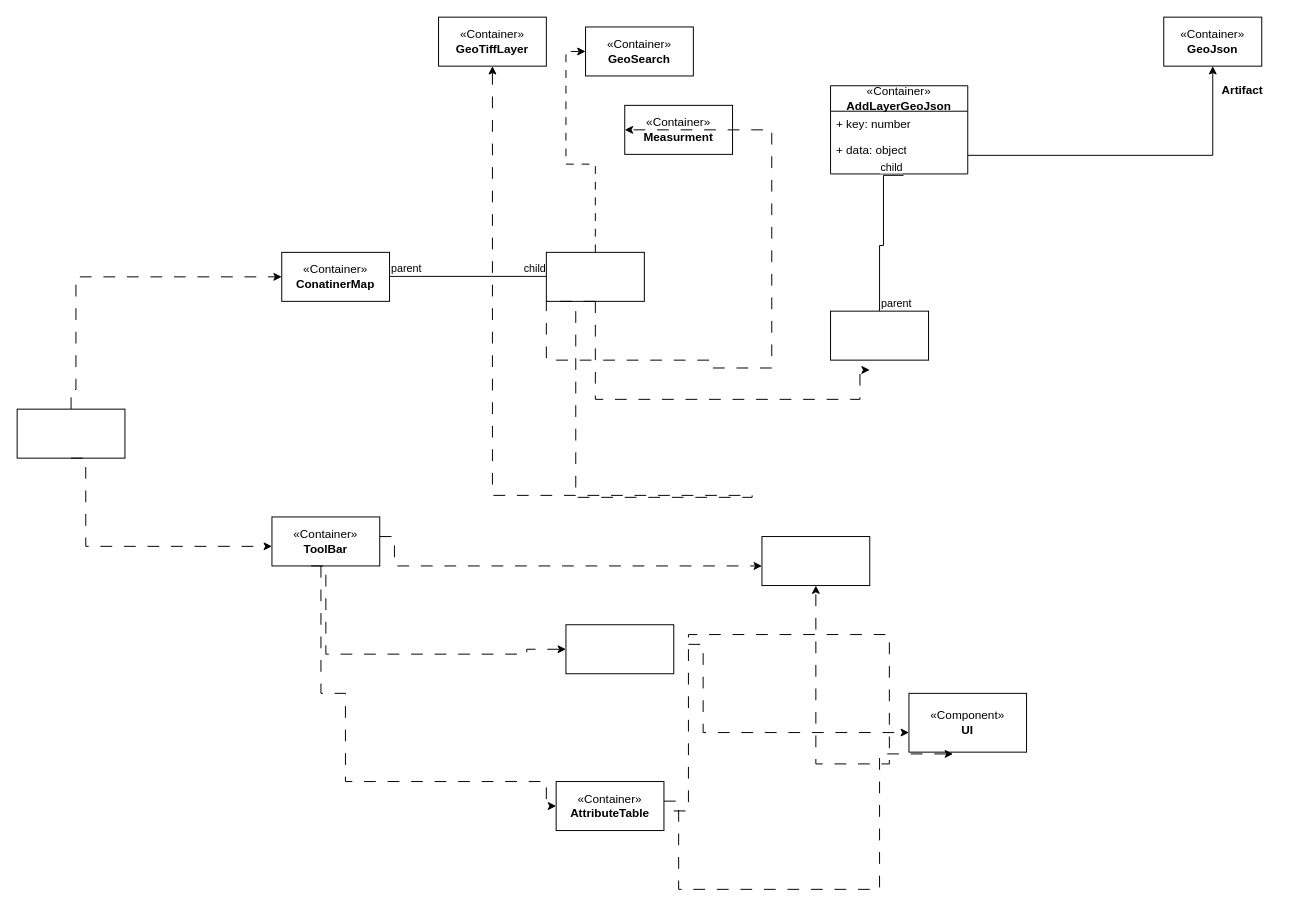
Some shapes in this 1294 by 914 pixel diagram are drawn without their labels. Here are the shapes that lost their labels. From the top down, the centre of each, then its label:
At (x=594, y=276): "«Container» MapTools".
At (x=879, y=335): "«Container» LayerItems".
At (x=70, y=433): "«Container» App".
At (x=815, y=561): "«Container» LocationAnalysis".
At (x=619, y=649): "«Container» DataEntry".
